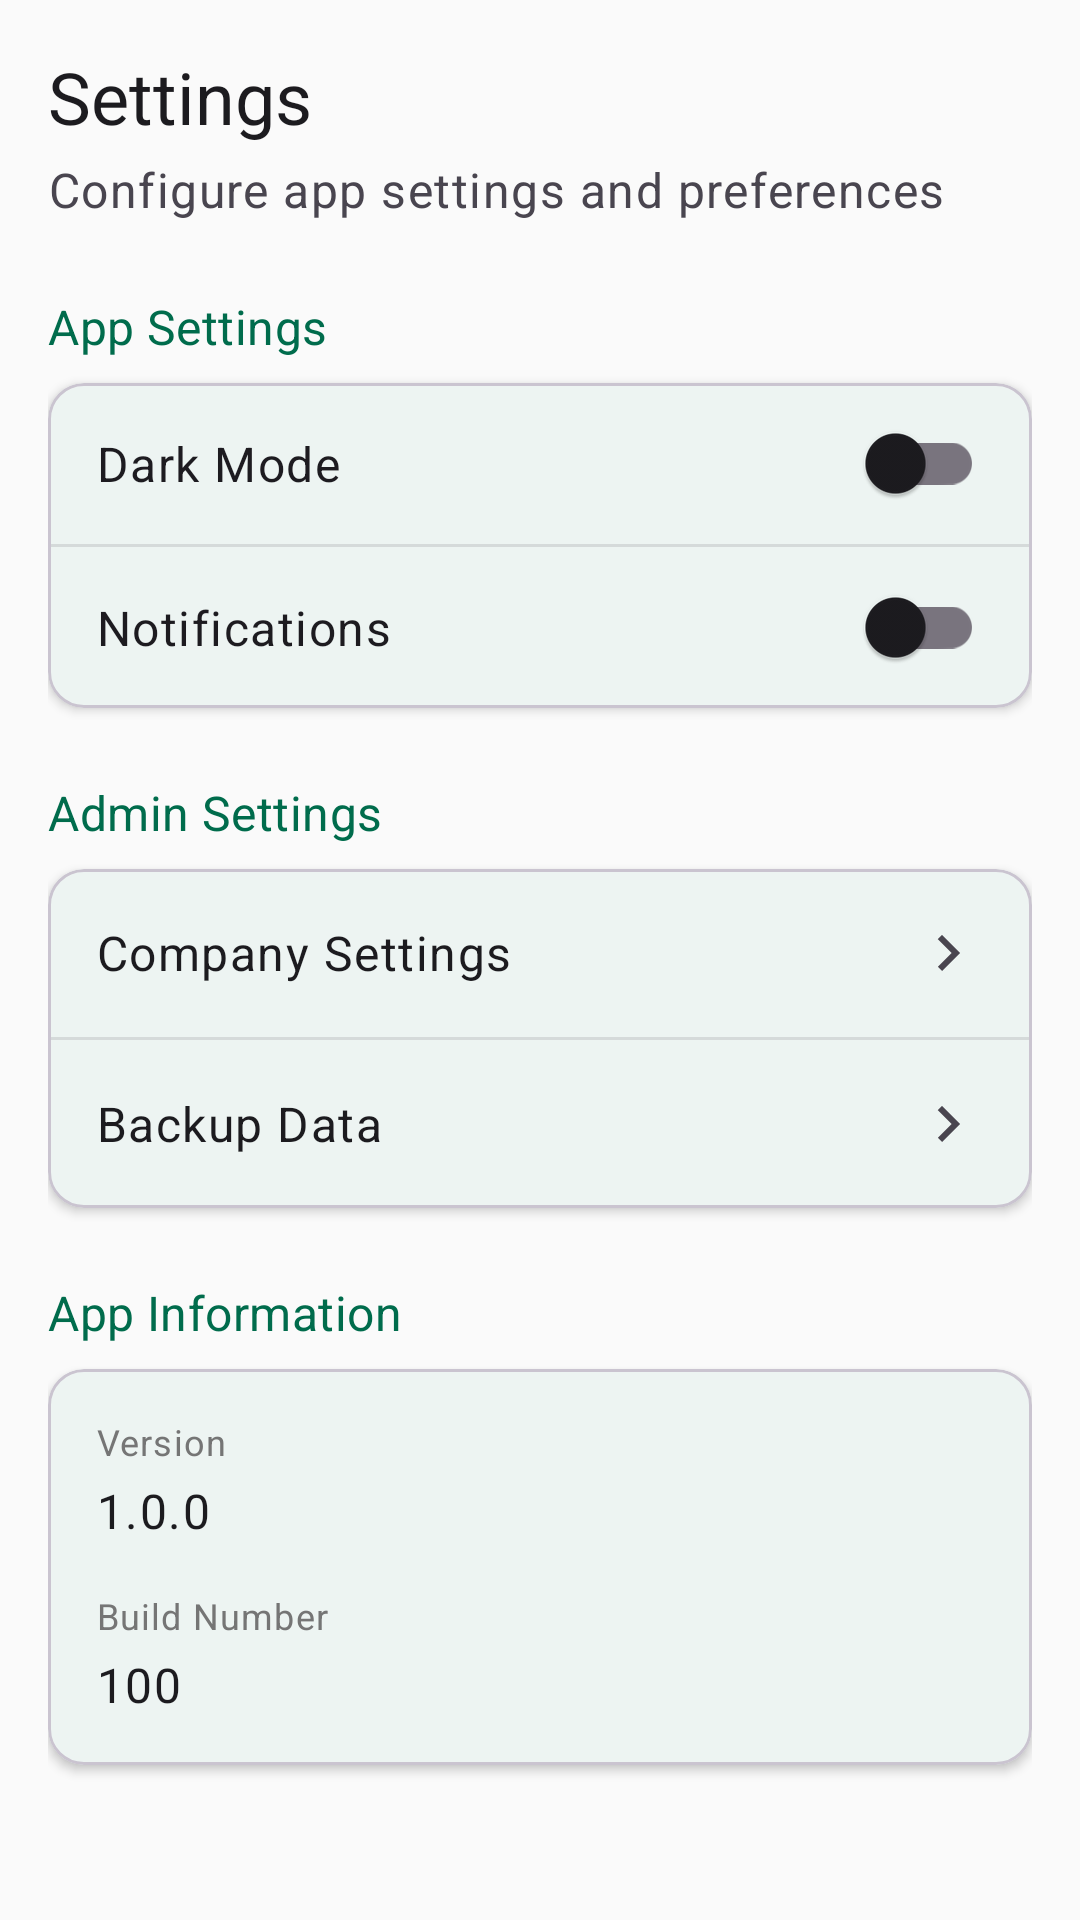

Point at icon controls on the screen. Image size 1080 × 1920, points as [x,y].
arrow right: [949,953], [949,1124]
